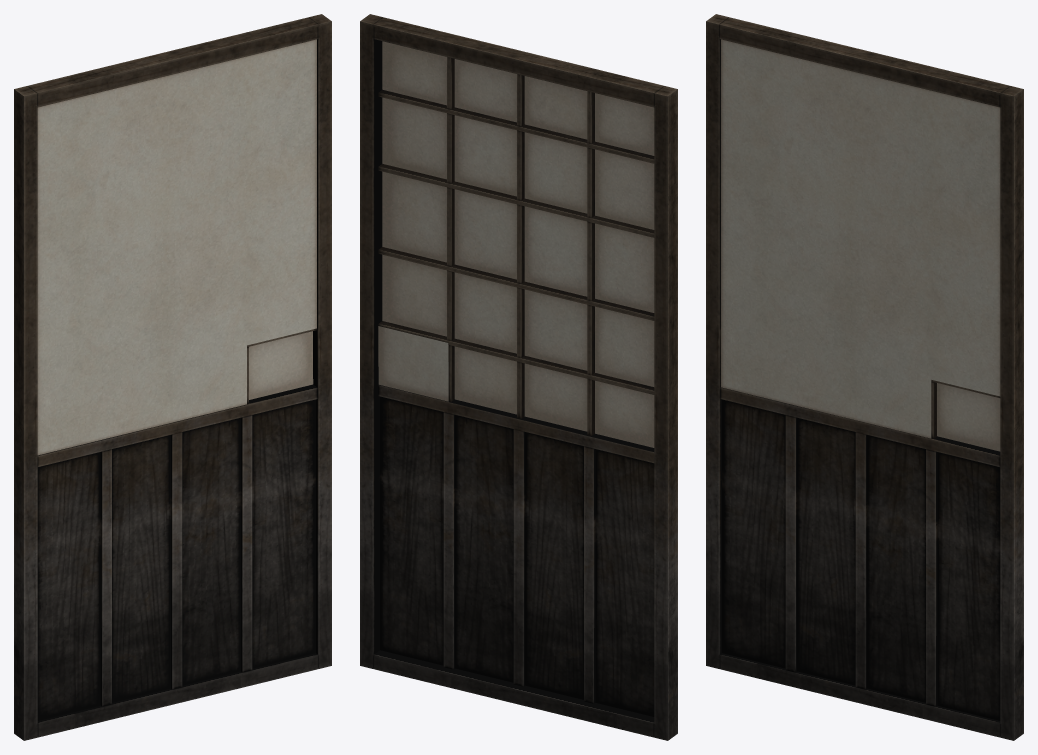
File: JB_Ext_Door_A_01.fbx
3 views of the same model, side by side, from view 1: azimuth 30°, elevation 25°; view 2: azimuth 150°, elevation 25°; view 3: azimuth 330°, elevation 25° (orthographic).
Parts seen in each view (by area): view 1: JB_Ext_Door_A_01; view 2: JB_Ext_Door_A_01; view 3: JB_Ext_Door_A_01.
Part boxes in pixels (x1,y1,x2,y2): JB_Ext_Door_A_01: [14, 14, 331, 740]; JB_Ext_Door_A_01: [360, 14, 677, 740]; JB_Ext_Door_A_01: [706, 14, 1023, 740].
Bounding box in the file's own units: 1 × 2 × 0.0567.
